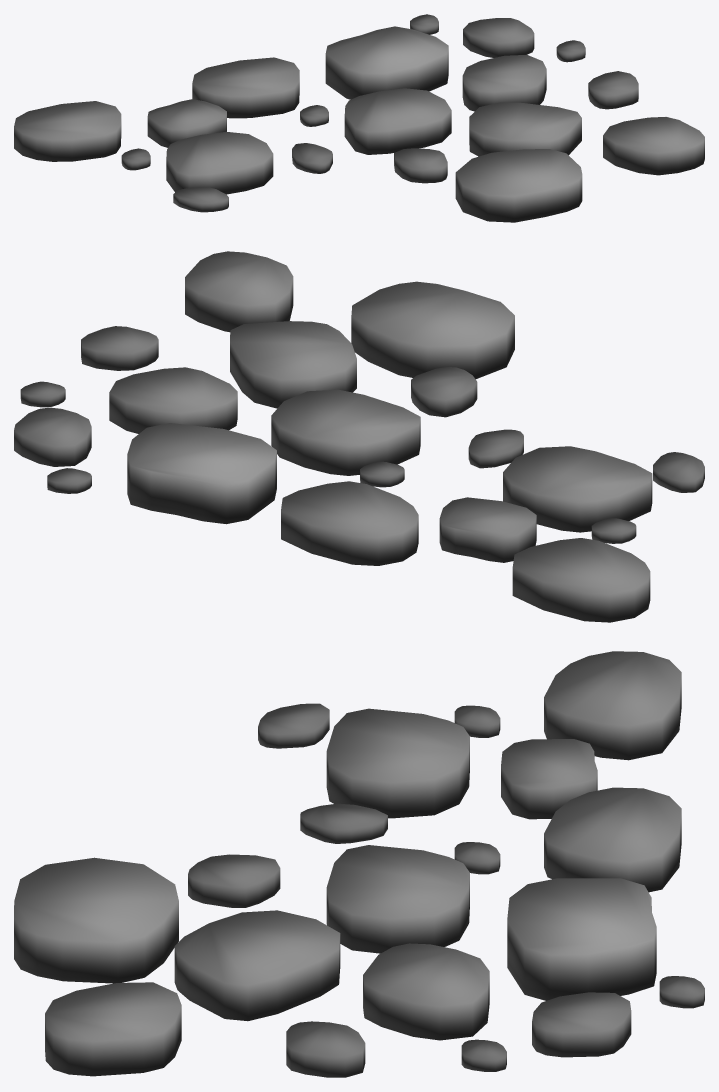
The model's file is obj_PathBowRocksGrey.fbx.
The picture shows the model from 3 angles, top to bottom: view 1: azimuth 30°, elevation 25°; view 2: azimuth 150°, elevation 25°; view 3: azimuth 270°, elevation 25°; orthographic projection. The views are drawn at different scales.
Visible parts, largest first — view 1: obj_PathBowRocksGrey; view 2: obj_PathBowRocksGrey; view 3: obj_PathBowRocksGrey.
Boxes of the visible parts, x1=… form: obj_PathBowRocksGrey: x1=14, y1=14, x2=704, y2=222; obj_PathBowRocksGrey: x1=14, y1=251, x2=704, y2=622; obj_PathBowRocksGrey: x1=14, y1=651, x2=704, y2=1077.
Bounding box in the file's own units: 1552 × 85.29 × 1136.
